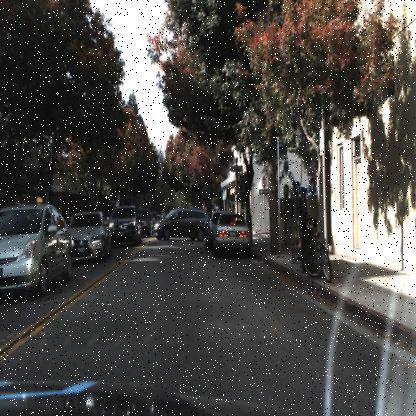car: (1, 200, 74, 297), (71, 204, 116, 264), (210, 209, 256, 260), (152, 202, 209, 243), (106, 202, 142, 253), (206, 209, 221, 250)
